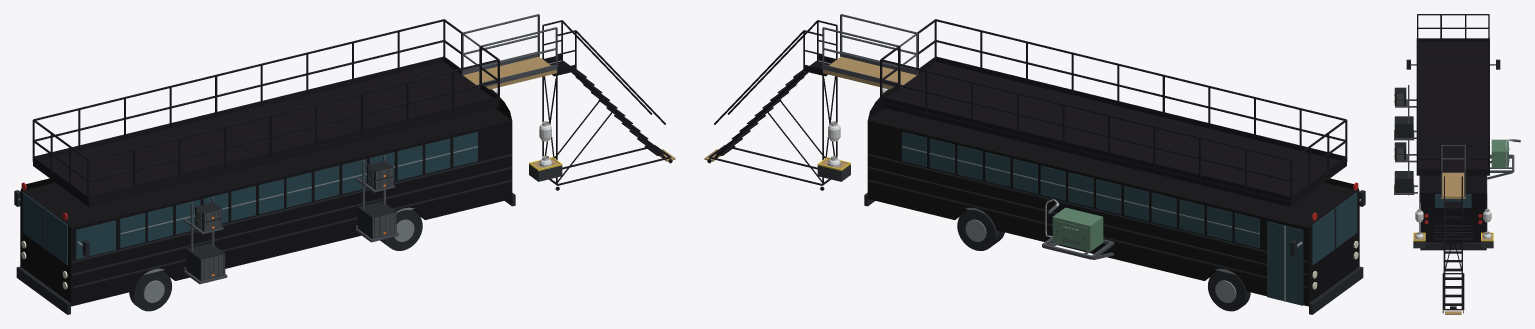
The model's file is baaabs-subframe-study-v1.glb.
The picture shows the model from 3 angles, left to right: view 1: azimuth 30°, elevation 25°; view 2: azimuth 150°, elevation 25°; view 3: azimuth 270°, elevation 25°; orthographic projection. The views are drawn at different scales.
Visible parts, largest first — view 1: Bus__Body_96in_wide, Bus__Roof_126in_high, Toe_board_-1, Toe_board_1, Dancefloor_section_11, Dancefloor_section_04, Dancefloor_section_08, Dancefloor_section_05, Dancefloor_section_10, Dancefloor_section_06, Dancefloor_section_12, Dancefloor_section_01 (+33 smaller); view 2: Bus__Body_96in_wide, Bus__Entrance_door, Toe_board_1, Toe_board_-1, Bus__Roof_126in_high, Dancefloor_section_11, Dancefloor_section_04, Dancefloor_section_08, Dancefloor_section_05, Dancefloor_section_10, Dancefloor_section_06, Dancefloor_section_12 (+33 smaller); view 3: Bus__Body_96in_wide, Bus__Rear_engine_hatch, Dancefloor_section_12, Dancefloor_section_02, Dancefloor_section_04, Dancefloor_section_05, Dancefloor_section_03, Dancefloor_section_11, Dancefloor_section_01, Dancefloor_section_06, Dancefloor_section_07, Dancefloor_section_08 (+21 smaller).
Part boxes in pixels (bbox=[...]): Bus__Body_96in_wide: bbox=[20, 108, 512, 306]; Bus__Roof_126in_high: bbox=[20, 89, 511, 226]; Toe_board_-1: bbox=[89, 96, 498, 201]; Toe_board_1: bbox=[34, 57, 443, 160]; Dancefloor_section_11: bbox=[376, 70, 465, 123]; Dancefloor_section_04: bbox=[137, 128, 225, 181]; Dancefloor_section_08: bbox=[273, 95, 362, 148]; Dancefloor_section_05: bbox=[171, 120, 259, 173]; Dancefloor_section_10: bbox=[342, 78, 430, 131]; Dancefloor_section_06: bbox=[205, 112, 294, 165]; Dancefloor_section_12: bbox=[410, 62, 499, 115]; Dancefloor_section_01: bbox=[33, 153, 123, 206]; Bus__Body_96in_wide: bbox=[867, 108, 1359, 306]; Bus__Entrance_door: bbox=[1267, 221, 1303, 305]; Toe_board_1: bbox=[881, 96, 1290, 201]; Toe_board_-1: bbox=[936, 57, 1345, 160]; Bus__Roof_126in_high: bbox=[868, 89, 1359, 226]; Dancefloor_section_11: bbox=[914, 70, 1003, 123]; Dancefloor_section_04: bbox=[1154, 128, 1242, 181]; Dancefloor_section_08: bbox=[1017, 95, 1106, 148]; Dancefloor_section_05: bbox=[1120, 120, 1208, 173]; Dancefloor_section_10: bbox=[949, 78, 1037, 131]; Dancefloor_section_06: bbox=[1085, 112, 1174, 165]; Dancefloor_section_12: bbox=[880, 62, 969, 115]; Bus__Body_96in_wide: bbox=[1420, 175, 1486, 242]; Bus__Rear_engine_hatch: bbox=[1429, 220, 1477, 242]; Dancefloor_section_12: bbox=[1416, 161, 1489, 175]; Dancefloor_section_02: bbox=[1416, 52, 1489, 63]; Dancefloor_section_04: bbox=[1416, 74, 1489, 85]; Dancefloor_section_05: bbox=[1416, 85, 1489, 96]; Dancefloor_section_03: bbox=[1416, 63, 1489, 74]; Dancefloor_section_11: bbox=[1416, 150, 1489, 161]; Dancefloor_section_01: bbox=[1416, 42, 1489, 52]; Dancefloor_section_06: bbox=[1416, 96, 1489, 106]; Dancefloor_section_07: bbox=[1416, 107, 1489, 117]; Dancefloor_section_08: bbox=[1416, 118, 1489, 128].
Size of what is drawn, in the model's own units: 17.42 by 4.53 by 4.67.
